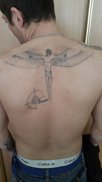tatu1_angel: (5, 46, 94, 103)
